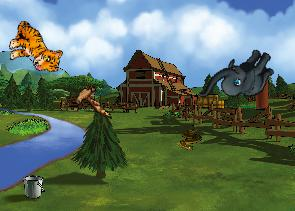eagle: (65, 80, 114, 119)
elephant: (198, 33, 280, 121)
tiger: (4, 19, 67, 75)
